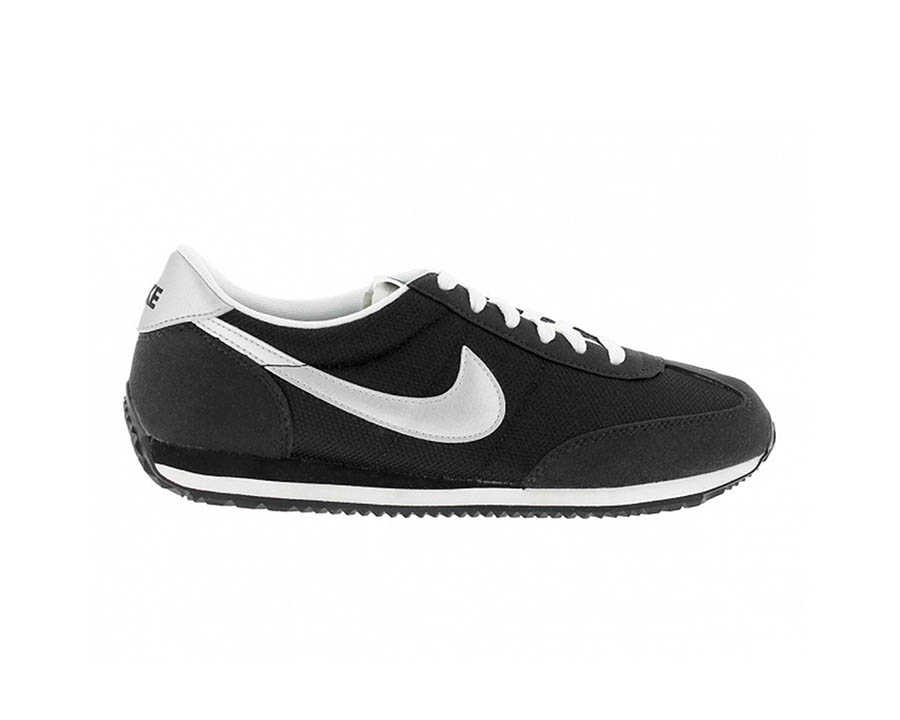nike: (181, 319, 513, 451)
